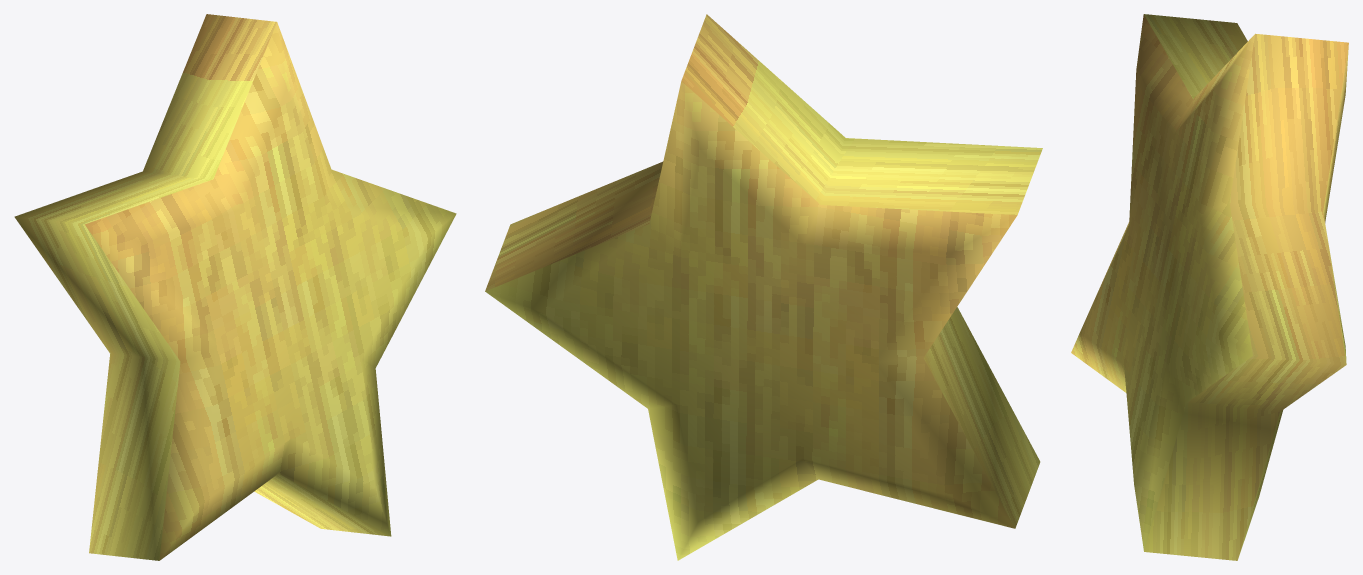
Rendered from star2.obj.
3 views of the same model, side by side, from view 1: azimuth 30°, elevation 25°; view 2: azimuth 150°, elevation 25°; view 3: azimuth 270°, elevation 25° (orthographic). The views are drawn at different scales.
Parts seen in each view (by area): view 1: a8228b53_dds.001; view 2: a8228b53_dds.001; view 3: a8228b53_dds.001.
Part boxes in pixels (x1,y1,x2,y2): a8228b53_dds.001: (14, 14, 456, 560); a8228b53_dds.001: (485, 14, 1042, 560); a8228b53_dds.001: (1071, 14, 1348, 560).
Bounding box in the file's own units: 0.438 × 0.4732 × 0.2336.
